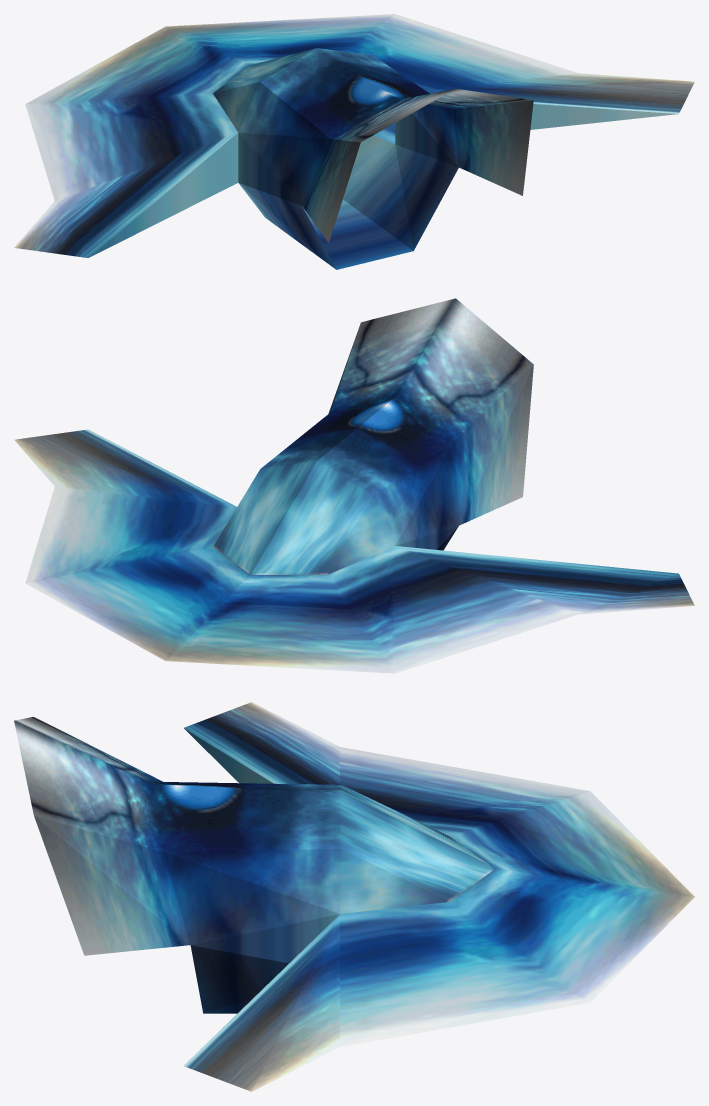
The model's file is twinblade102_2.obj.
3 renders of one model, top to bottom at view 1: azimuth 30°, elevation 25°; view 2: azimuth 150°, elevation 25°; view 3: azimuth 270°, elevation 25°, orthographic. The views are drawn at different scales.
Parts seen in each view (by area): view 1: MDL_cwdhkn02_2r; view 2: MDL_cwdhkn02_2r; view 3: MDL_cwdhkn02_2r.
Part boxes in pixels (x1,y1,x2,y2): MDL_cwdhkn02_2r: (14, 14, 694, 269); MDL_cwdhkn02_2r: (14, 298, 694, 673); MDL_cwdhkn02_2r: (14, 702, 694, 1091).
Bounding box in the file's own units: 0.64 × 0.2074 × 0.4725.
